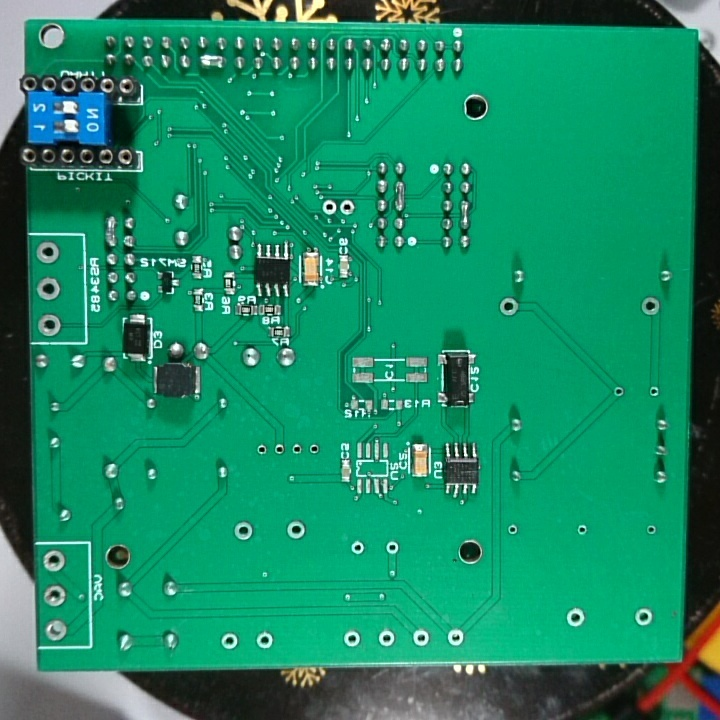F: (42, 617, 71, 643), (43, 582, 69, 611), (35, 313, 65, 338), (34, 239, 60, 267), (41, 549, 68, 575), (35, 275, 62, 301), (283, 520, 312, 543), (231, 518, 255, 544), (253, 628, 276, 655), (375, 627, 400, 651), (410, 626, 433, 651), (496, 295, 520, 318), (564, 606, 588, 629), (444, 626, 467, 649), (639, 295, 661, 318), (633, 606, 655, 629), (218, 631, 240, 653), (342, 629, 362, 652), (338, 196, 356, 220), (349, 538, 368, 558), (383, 540, 401, 559), (320, 198, 338, 217), (573, 522, 592, 538), (505, 520, 520, 540), (272, 442, 288, 459), (646, 384, 662, 400), (255, 442, 269, 460), (308, 441, 322, 458), (290, 442, 304, 458), (612, 383, 625, 400), (645, 522, 658, 537)
P: (102, 215, 120, 249), (392, 179, 409, 214), (458, 198, 474, 231), (197, 52, 226, 70)
